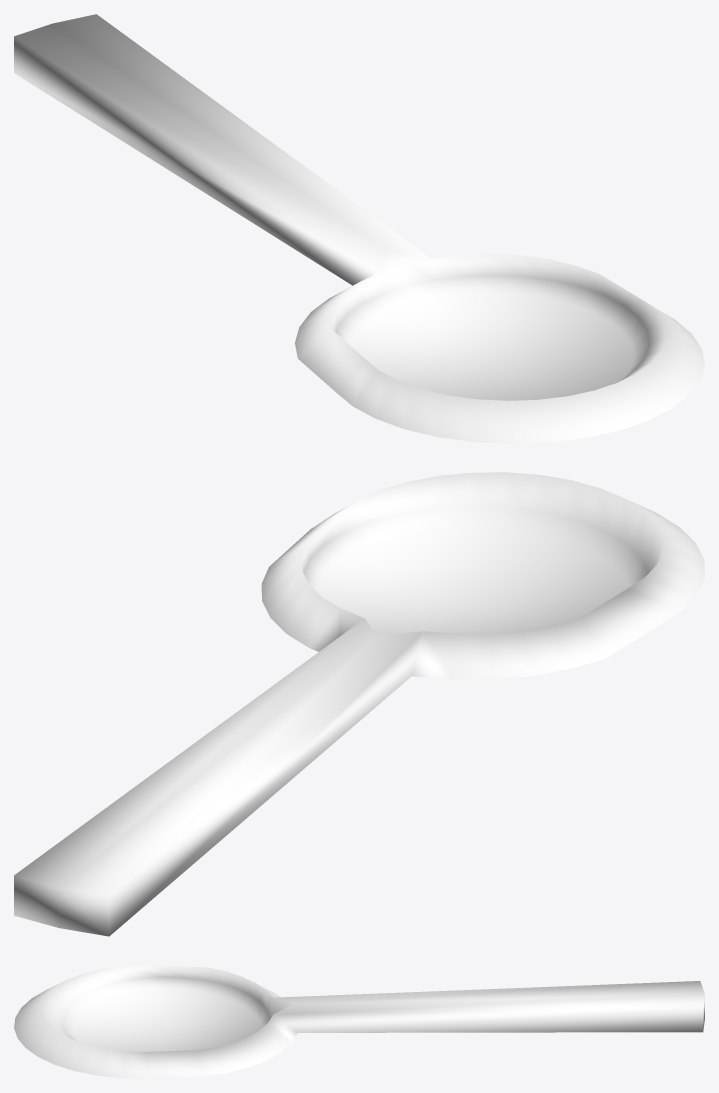
File: Spoon.fbx
3 renders of one model, top to bottom at view 1: azimuth 30°, elevation 25°; view 2: azimuth 150°, elevation 25°; view 3: azimuth 270°, elevation 25°, orthographic. The views are drawn at different scales.
Parts seen in each view (by area): view 1: Spoon; view 2: Spoon; view 3: Spoon.
Boxes of the visible parts, x1,y1,x2,y2 form: Spoon: (14, 14, 704, 443); Spoon: (14, 472, 704, 936); Spoon: (14, 965, 704, 1078).
Bounding box in the file's own units: 8.67 × 1.22 × 23.88.
